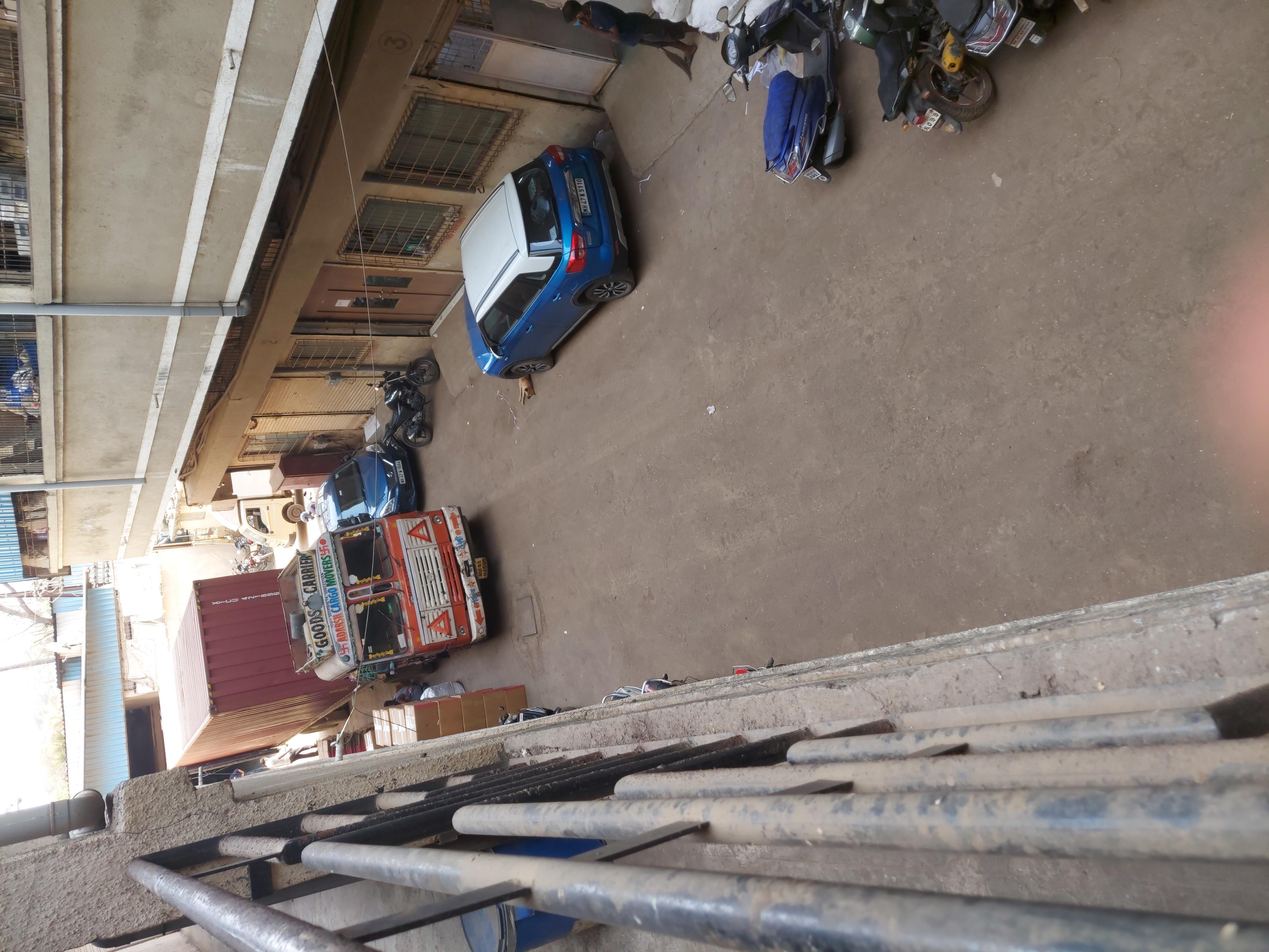License-Plate: (498, 356, 527, 367)
